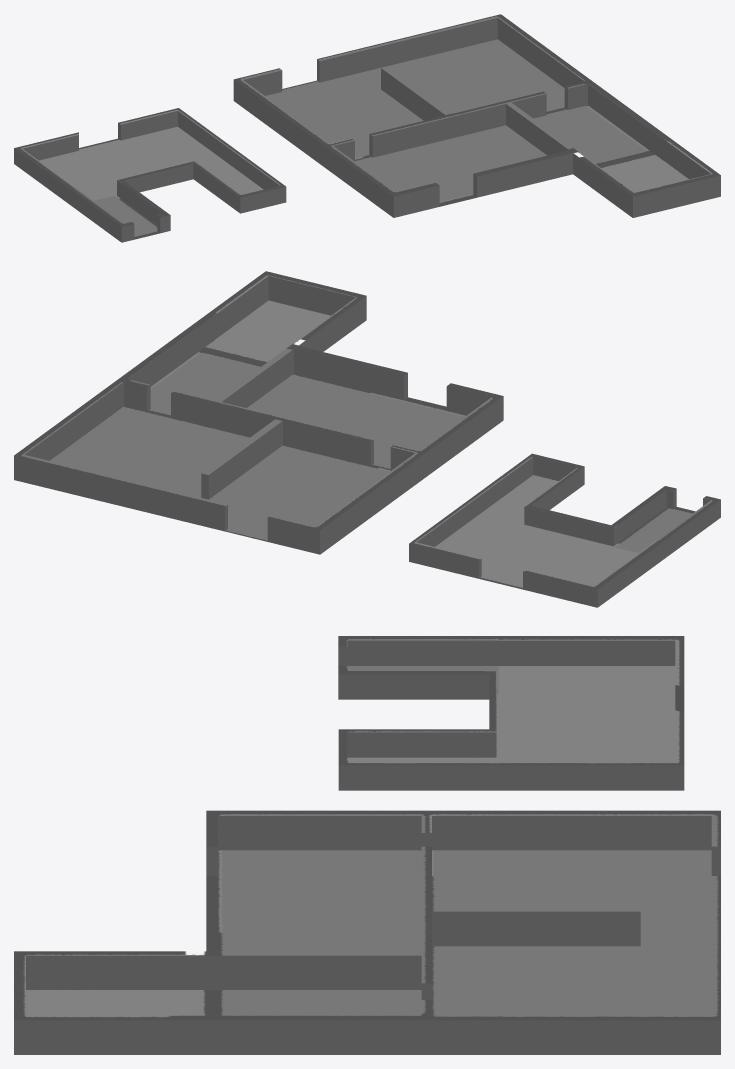
Rendered from gullmans.glb.
3 renders of one model, top to bottom at view 1: azimuth 30°, elevation 25°; view 2: azimuth 150°, elevation 25°; view 3: azimuth 270°, elevation 25°, orthographic. The views are drawn at different scales.
Visible parts, largest first — view 1: Cartographer's Outpost, Plane; view 2: Cartographer's Outpost, Plane; view 3: Cartographer's Outpost, Plane.
Boxes of the visible parts, x1,y1,x2,y2 form: Cartographer's Outpost: (233, 14, 720, 217); Plane: (14, 108, 286, 242); Cartographer's Outpost: (14, 271, 503, 554); Plane: (409, 453, 720, 607); Cartographer's Outpost: (14, 810, 720, 1054); Plane: (338, 636, 684, 790).
Size of what is drawn, in the model's own units: 25.66 by 1.05 by 19.63.
1 material, 1 textured.
